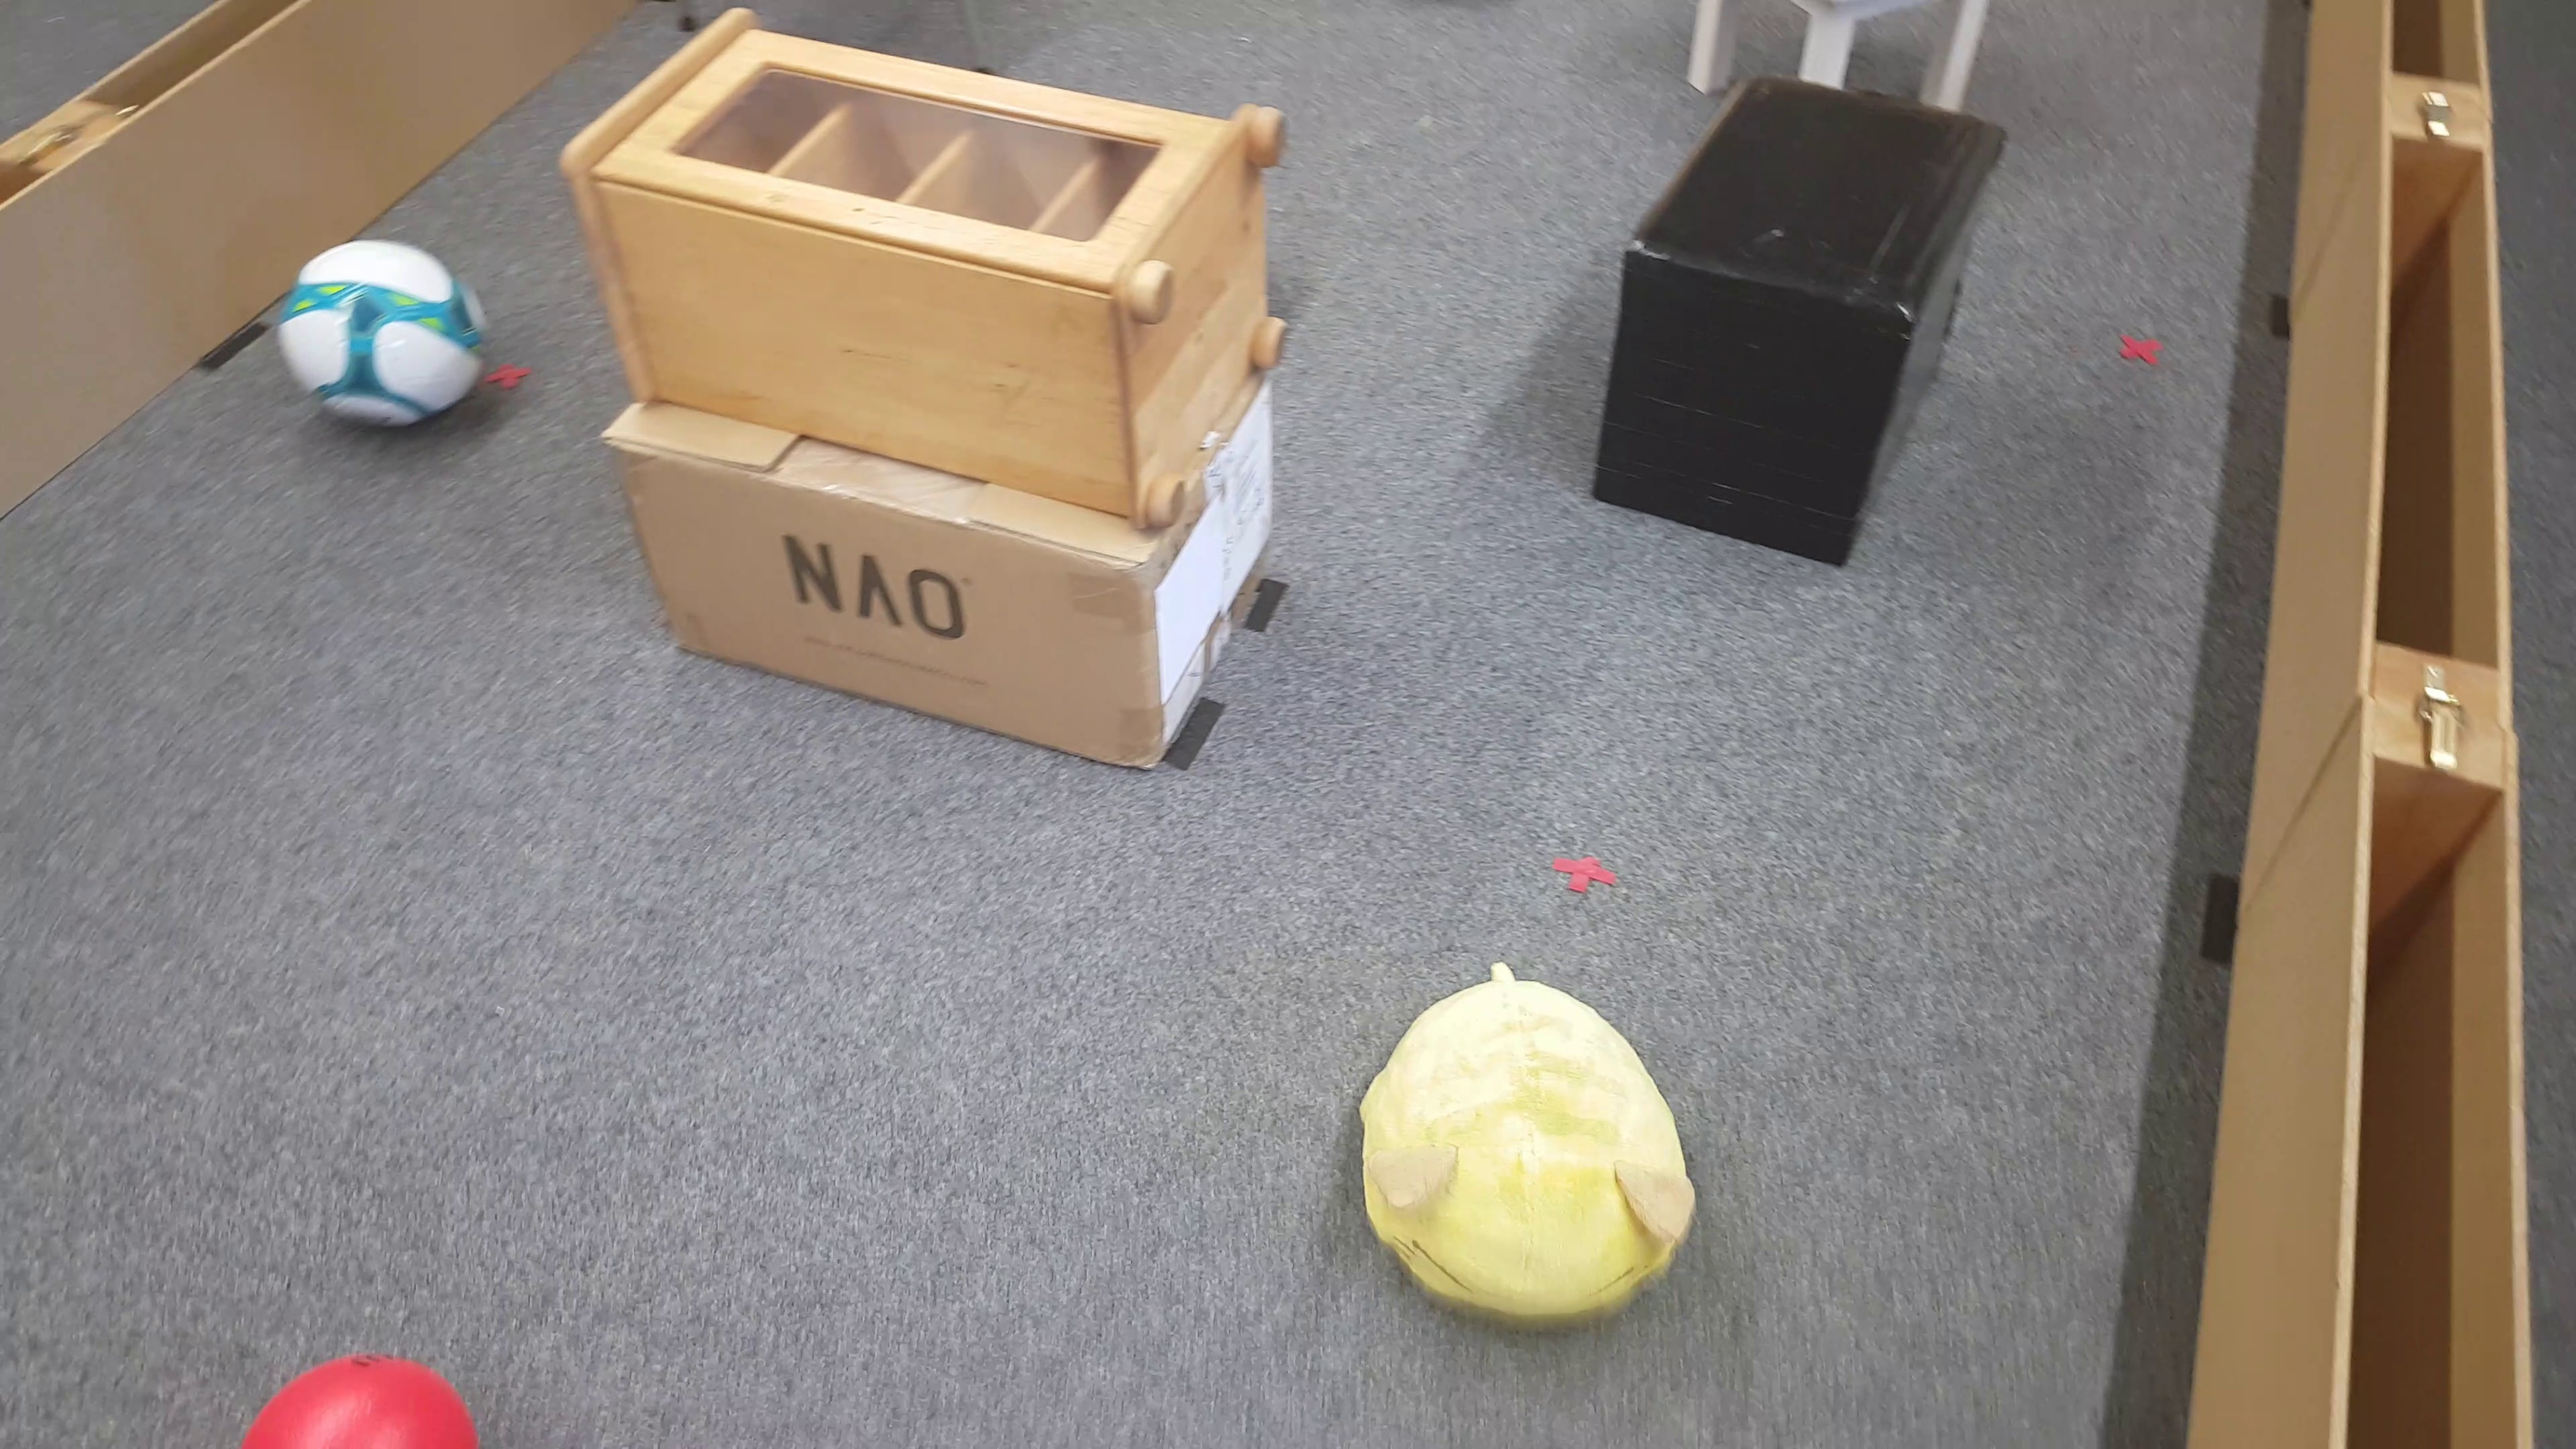grasp: (1346, 957, 1693, 1329)
kick: (283, 235, 490, 441), (219, 1362, 485, 1449)
push: (1585, 74, 2006, 575)
